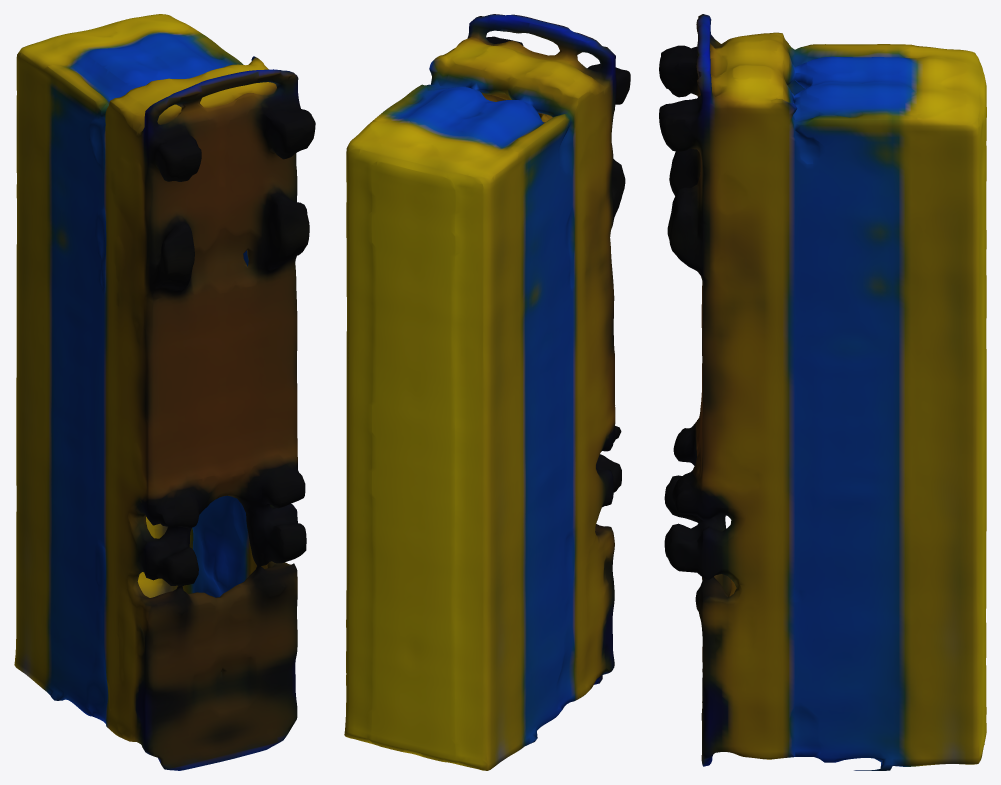
Rendered from A_platybus.FBX.
3 views of the same model, side by side, from view 1: azimuth 30°, elevation 25°; view 2: azimuth 150°, elevation 25°; view 3: azimuth 270°, elevation 25° (orthographic). The views are drawn at different scales.
Parts seen in each view (by area): view 1: plyFile; view 2: plyFile; view 3: plyFile.
Part boxes in pixels (left/top/right/bottom): plyFile: left=14, top=14, right=315, bottom=770; plyFile: left=344, top=14, right=630, bottom=770; plyFile: left=659, top=14, right=986, bottom=770.
Size of the model in its own units: 48.18 by 198 by 83.14.
